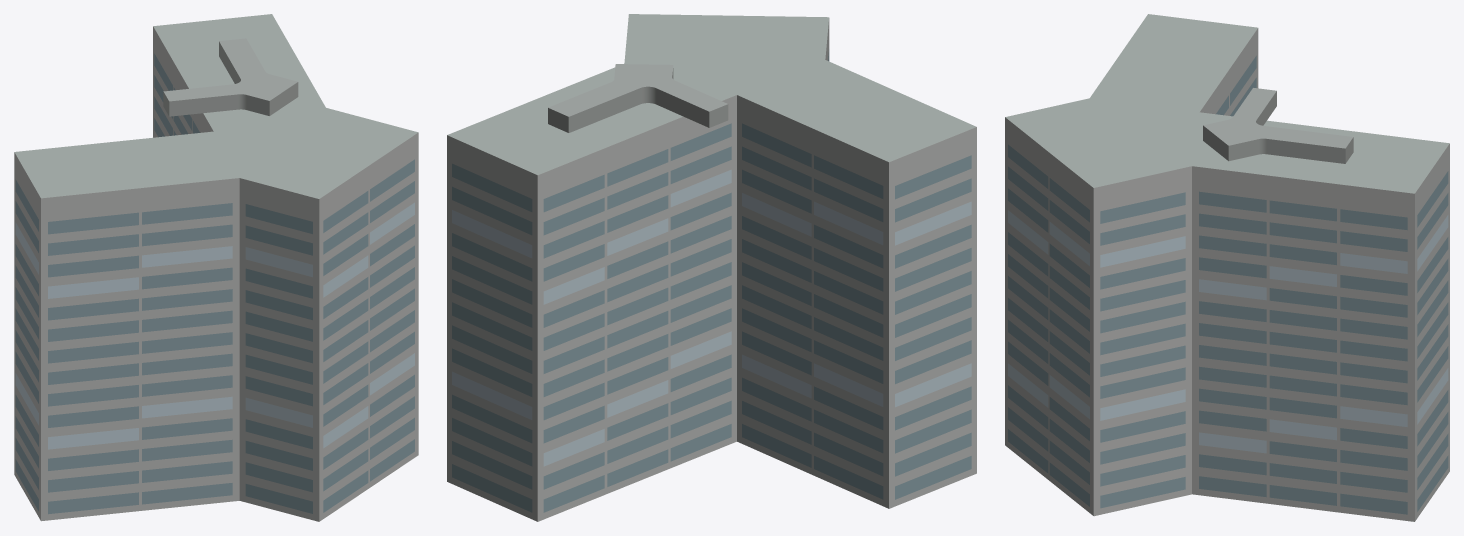
File: apt-a10026418.glb
3 views of the same model, side by side, from view 1: azimuth 30°, elevation 25°; view 2: azimuth 150°, elevation 25°; view 3: azimuth 270°, elevation 25° (orthographic). The views are drawn at different scales.
Parts seen in each view (by area): view 1: apt-a10026418; view 2: apt-a10026418; view 3: apt-a10026418.
Boxes of the visible parts, x1,y1,x2,y2 form: apt-a10026418: (14,14,418,521); apt-a10026418: (447,14,976,521); apt-a10026418: (1005,14,1449,521).
Bounding box in the file's own units: 48.23 × 43 × 50.44.
